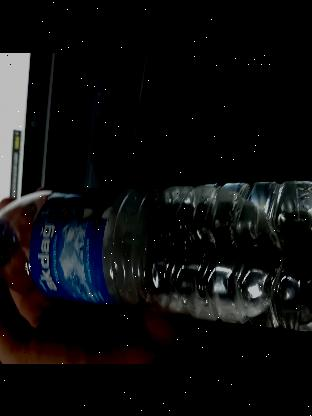Plastic Bottle: (0, 180, 312, 321)
